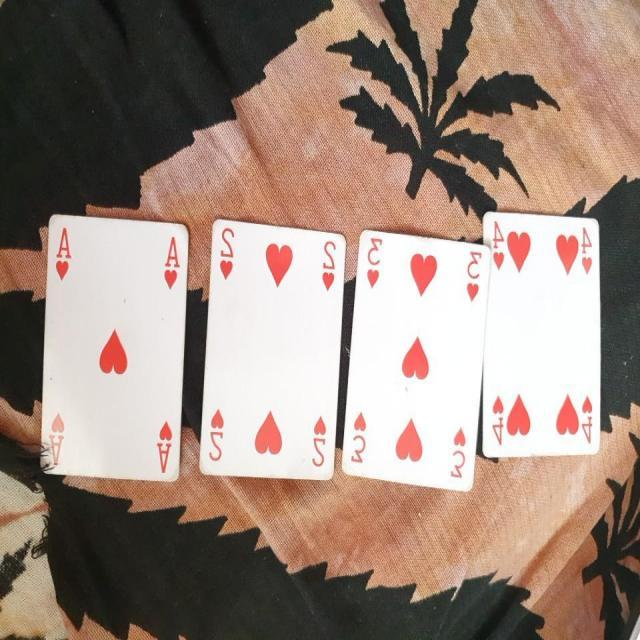2 of hearts: (196, 210, 345, 488)
3 of hearts: (344, 212, 494, 496)
4 of hearts: (476, 202, 604, 466)
ace of hearts: (31, 206, 195, 492)
